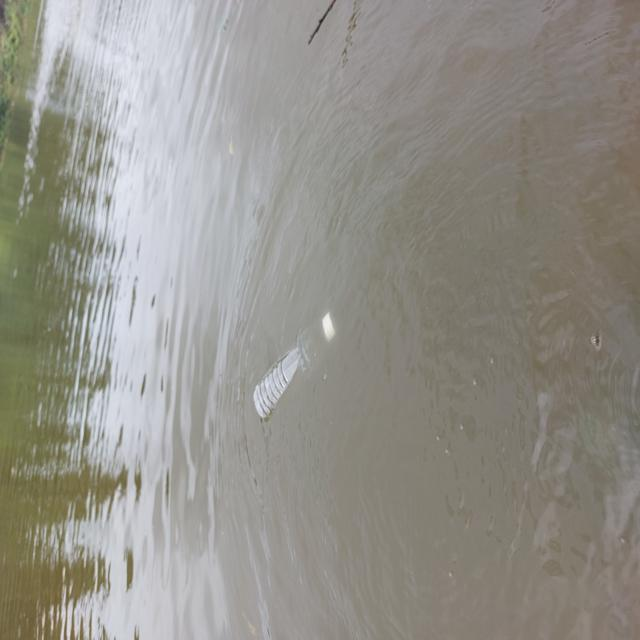waterbottle: (249, 308, 373, 431)
